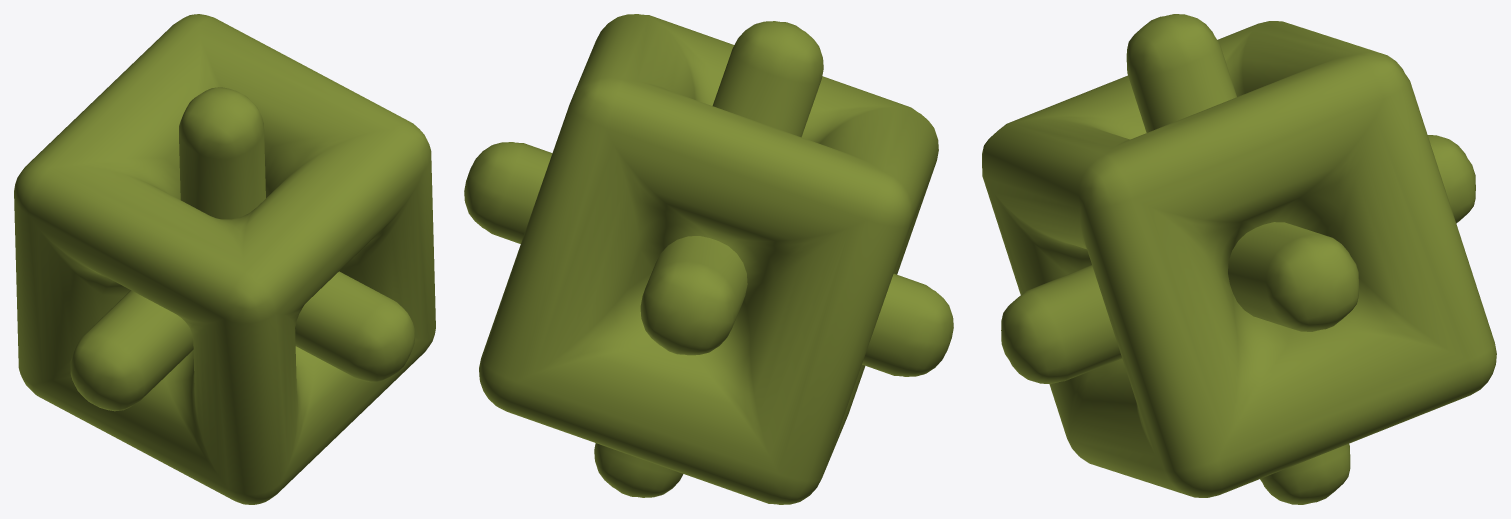
The model's file is asset.glb.
The picture shows the model from 3 angles, left to right: view 1: azimuth 30°, elevation 25°; view 2: azimuth 150°, elevation 25°; view 3: azimuth 270°, elevation 25°; orthographic projection. The views are drawn at different scales.
Visible parts, largest first — view 1: 11; view 2: 11; view 3: 11.
Boxes of the visible parts, x1,y1,x2,y2 form: 11: (14,14,435,504); 11: (464,14,953,504); 11: (982,14,1496,504).
Bounding box in the file's own units: 6.52 × 6.35 × 6.64.
